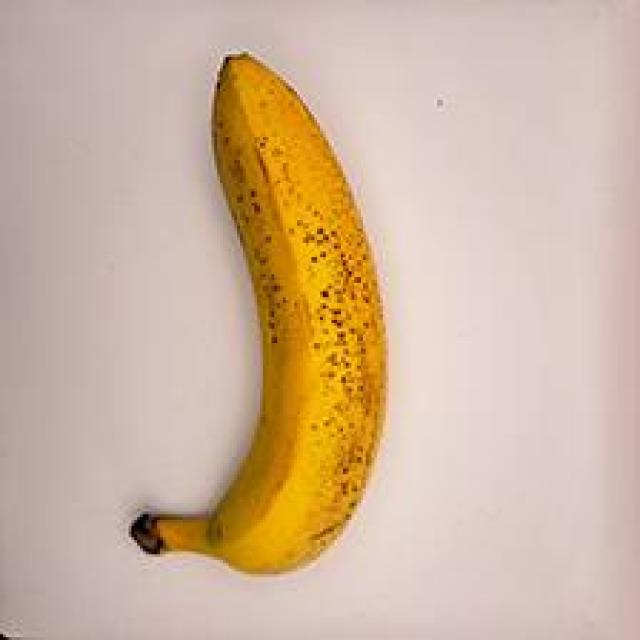Overripe: (104, 24, 412, 608)
